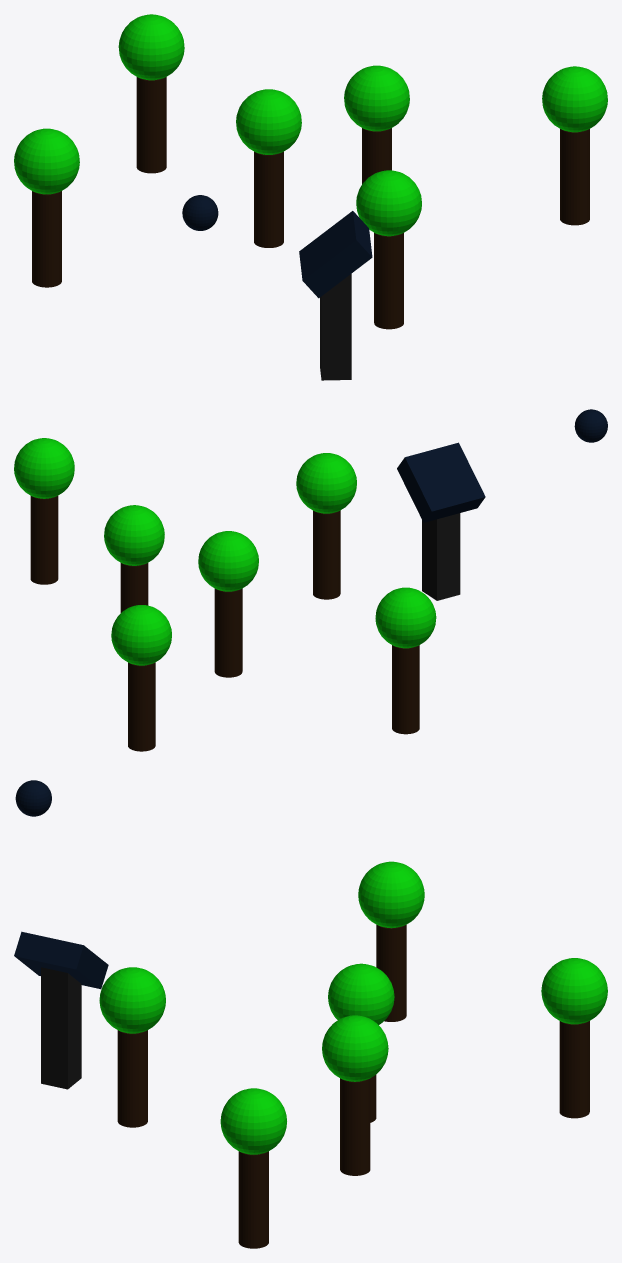
File: exercise20003.obj
The picture shows the model from 3 angles, top to bottom: view 1: azimuth 30°, elevation 25°; view 2: azimuth 150°, elevation 25°; view 3: azimuth 270°, elevation 25°; orthographic projection. The views are drawn at different scales.
Visible parts, largest first — view 1: Cube.001, Sphere, Sphere.006, Sphere.003, Sphere.005, Sphere.002, Sphere.004, Cube, Cylinder.005, Cylinder.006, Cylinder.004, Cylinder.003 (+4 smaller); view 2: Cube.001, Cube, Sphere.003, Sphere, Sphere.002, Sphere.006, Sphere.004, Sphere.005, Cylinder.002, Cylinder.003, Cylinder.004, Cylinder.005 (+3 smaller); view 3: Cube, Sphere, Sphere.005, Sphere.006, Sphere.004, Sphere.003, Sphere.002, Cube.001, Cylinder.004, Cylinder.003, Cylinder.005, Cylinder (+3 smaller).
Boxes of the visible parts, x1,y1,x2,y2 form: Cube.001: (299, 211, 372, 298); Sphere: (344, 65, 409, 131); Sphere.006: (14, 128, 79, 194); Sphere.003: (542, 66, 607, 132); Sphere.005: (118, 14, 184, 80); Sphere.002: (236, 89, 301, 154); Sphere.004: (356, 170, 421, 236); Cube: (320, 274, 351, 380); Cylinder.005: (136, 77, 166, 173); Cylinder.006: (32, 191, 61, 287); Cylinder.004: (374, 232, 403, 329); Cylinder.003: (560, 129, 589, 225); Cube.001: (397, 442, 485, 522); Cube: (422, 513, 460, 600); Sphere.003: (14, 438, 74, 498); Sphere: (104, 505, 164, 565); Sphere.002: (198, 531, 258, 591); Sphere.006: (375, 587, 436, 648); Sphere.004: (296, 453, 356, 513); Sphere.005: (111, 605, 171, 665); Cylinder.002: (214, 588, 242, 677); Cylinder.003: (30, 496, 58, 584); Cylinder.004: (313, 510, 340, 599); Cylinder.005: (128, 662, 155, 751); Cube: (41, 967, 81, 1089); Sphere: (322, 1015, 388, 1081); Sphere.005: (541, 958, 607, 1024); Sphere.006: (358, 861, 424, 928); Sphere.004: (99, 967, 165, 1033); Sphere.003: (220, 1088, 286, 1154); Sphere.002: (328, 963, 394, 1024); Cube.001: (14, 931, 108, 989); Cylinder.004: (117, 1030, 147, 1127); Cylinder.003: (238, 1151, 268, 1248); Cylinder.005: (559, 1021, 589, 1118); Cylinder: (340, 1078, 370, 1175).
Size of what is drawn, in the model's own units: 40.53 by 16.4 by 39.13.
